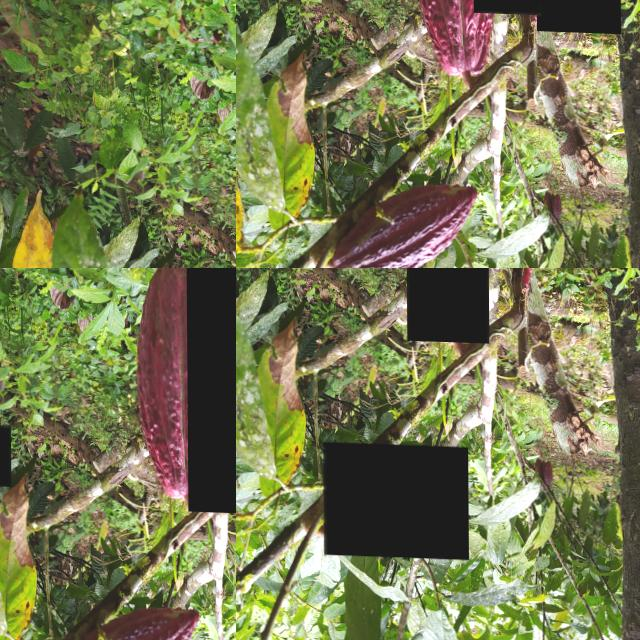Sana: (323, 441, 468, 557), (186, 268, 236, 513), (405, 268, 488, 340), (0, 424, 10, 485)
